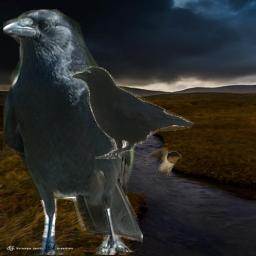Crow: (3, 9, 143, 255), (68, 64, 194, 159)
Swallow: (146, 147, 182, 176)
